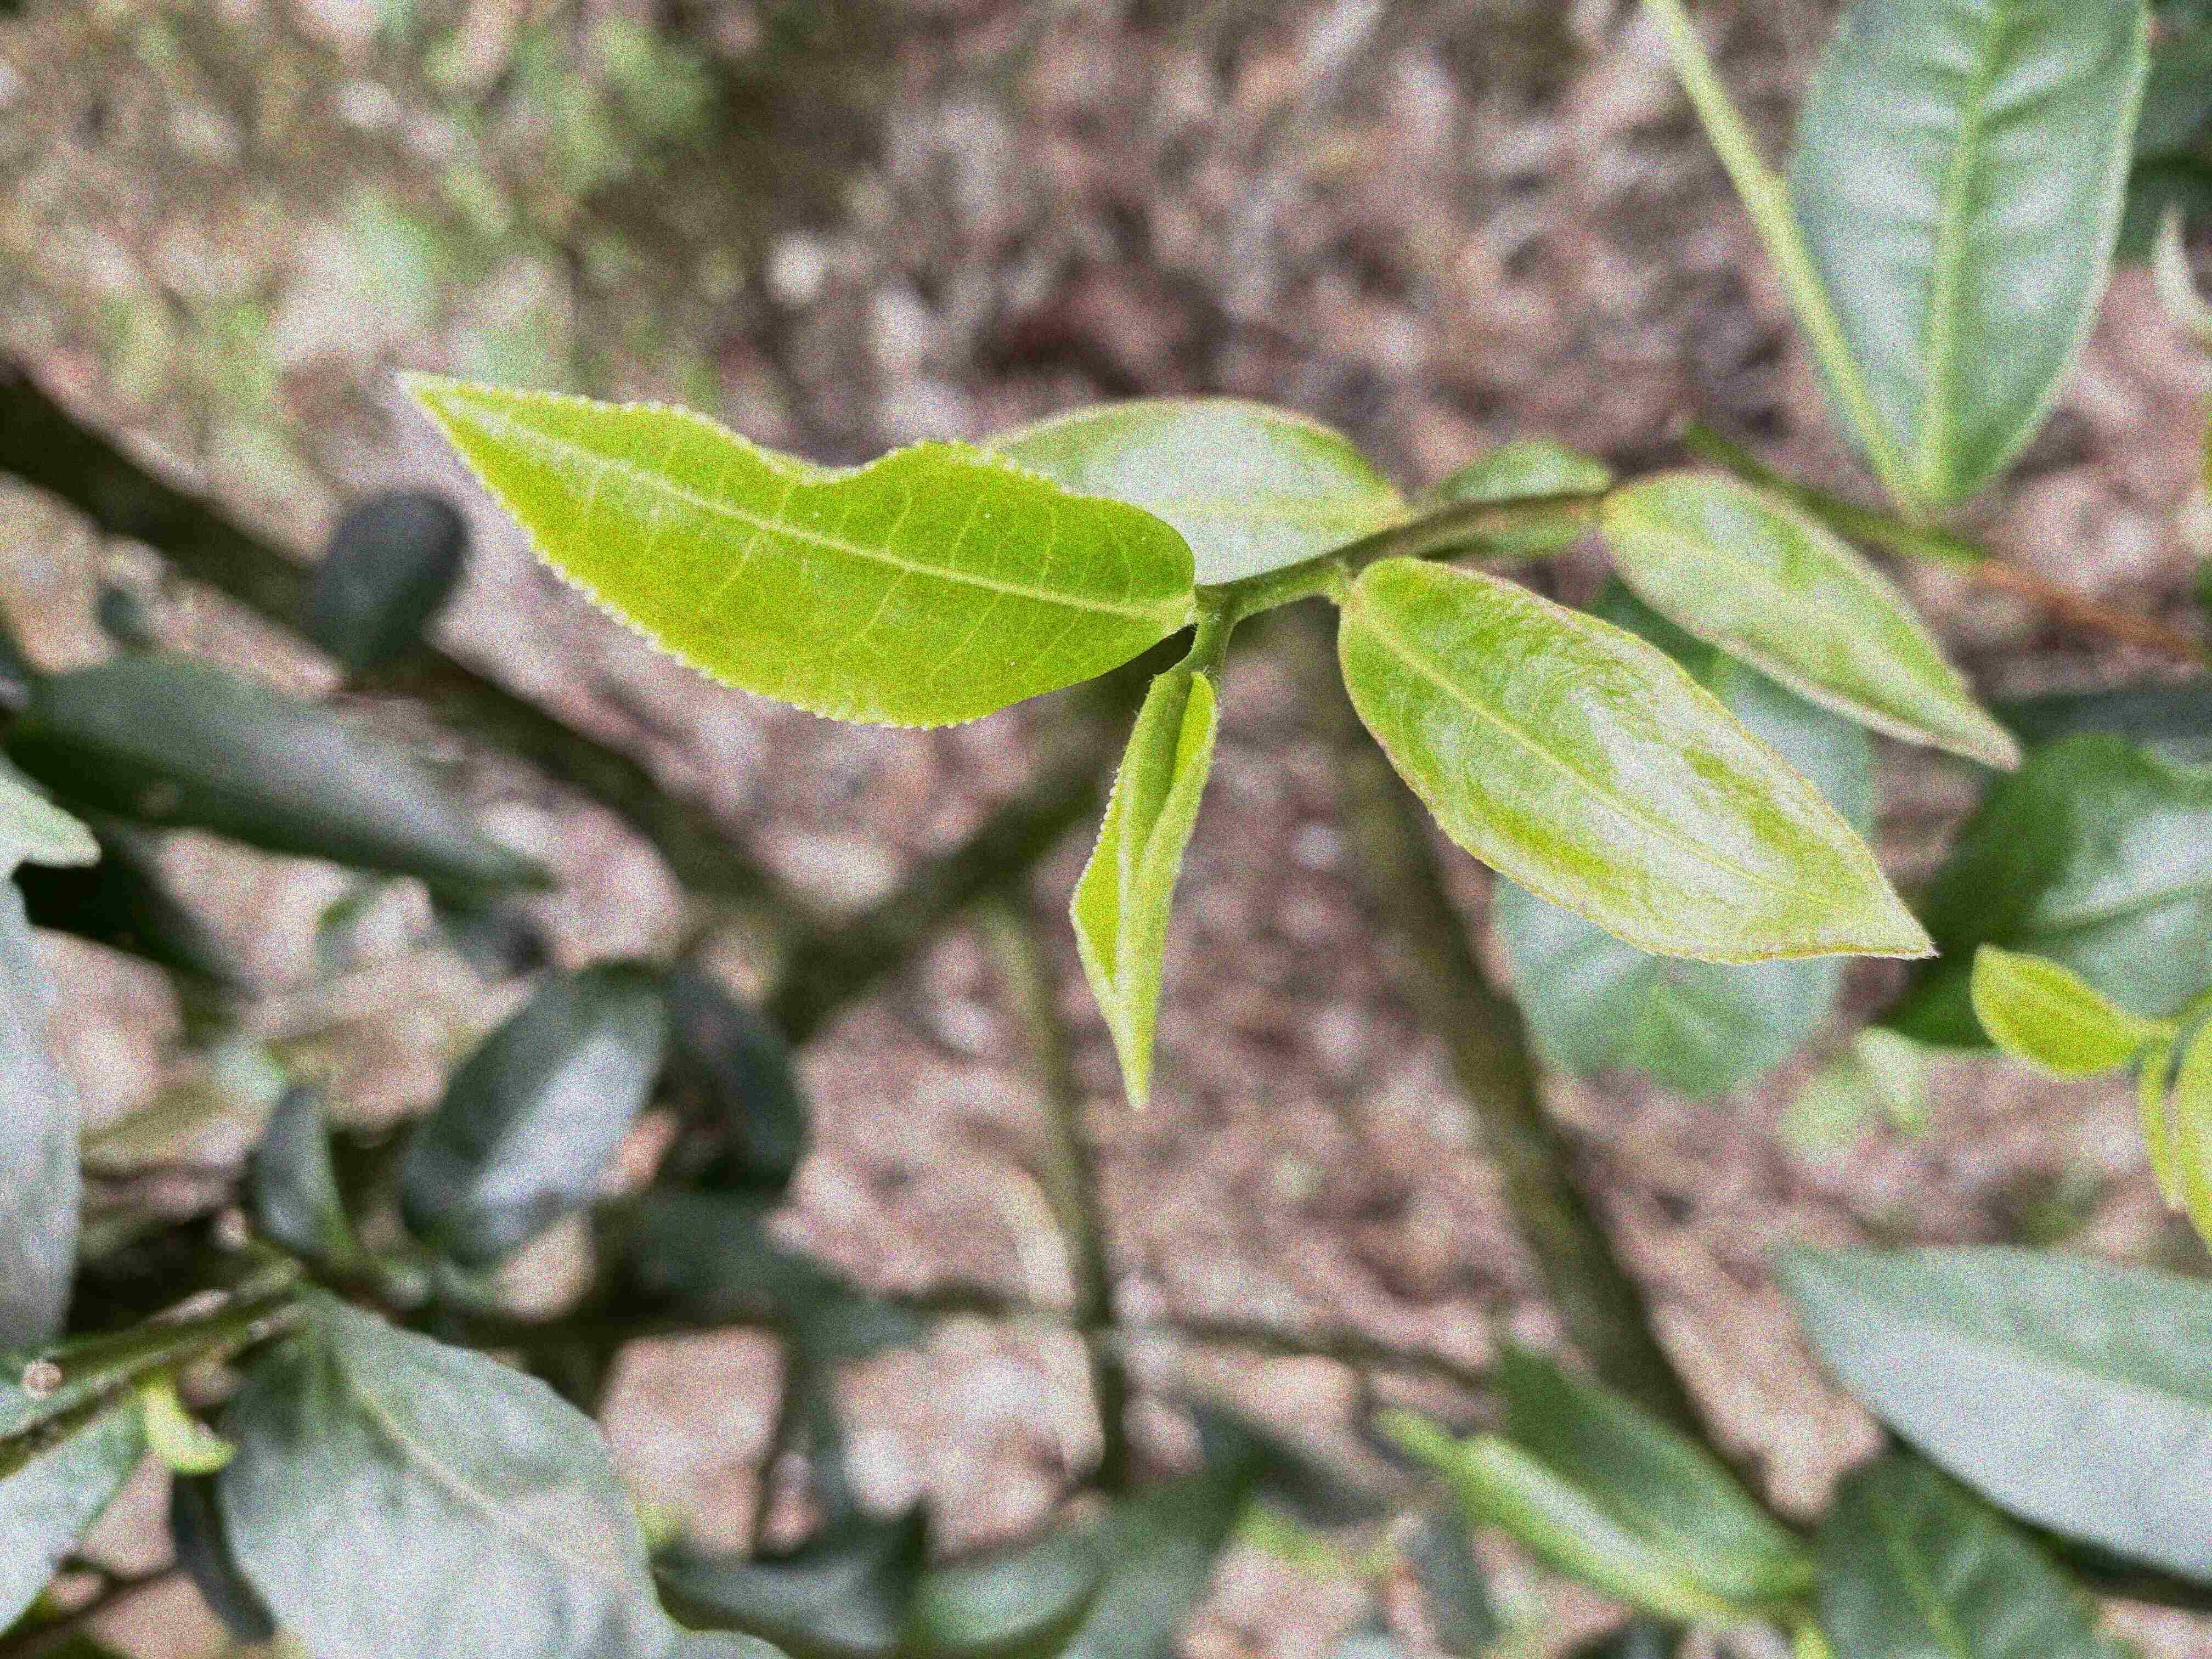healthy: (394, 364, 1193, 730)
tanju_low: (1331, 552, 1946, 967), (1599, 460, 2027, 774)
